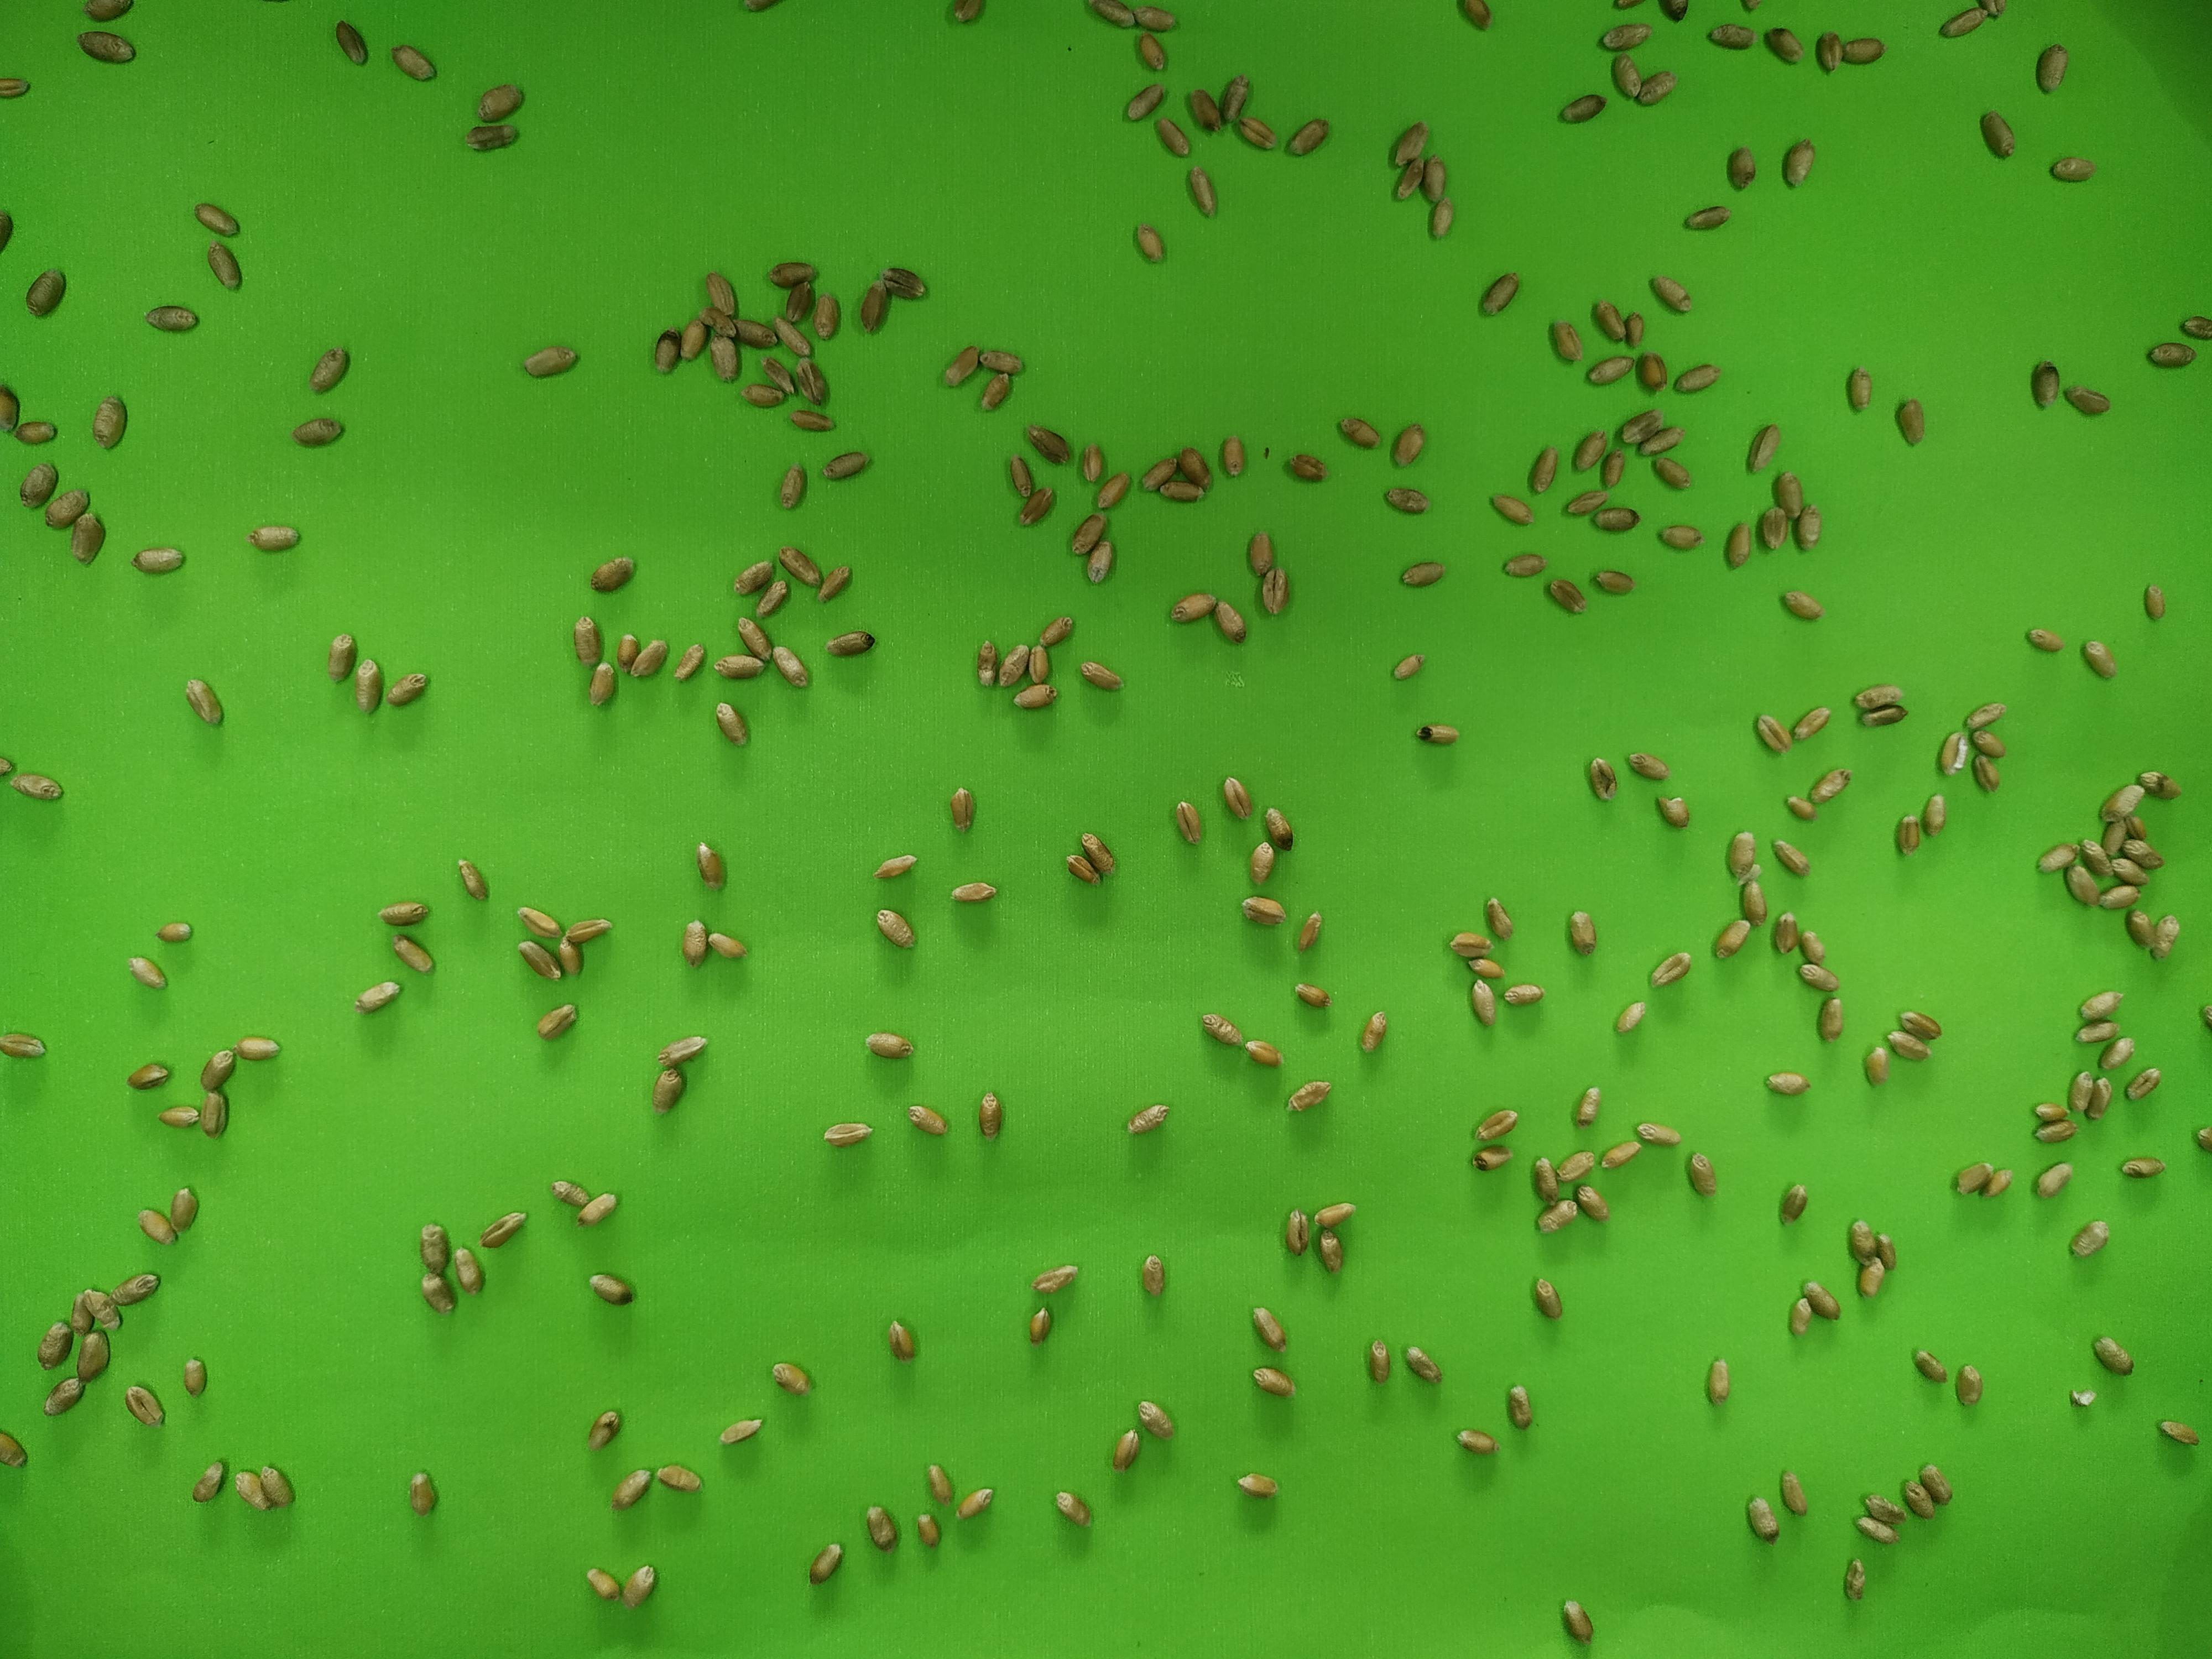bueno: (463, 120, 524, 157), (650, 1033, 709, 1070), (472, 82, 528, 120), (24, 267, 66, 317), (312, 343, 352, 396), (78, 1323, 111, 1385), (1724, 824, 1763, 878), (1163, 587, 1217, 626), (1712, 917, 1756, 964), (773, 540, 820, 584), (1092, 465, 1136, 512), (289, 416, 345, 453), (1797, 1279, 1846, 1321), (1209, 598, 1251, 647), (791, 357, 833, 406), (19, 460, 59, 511), (80, 28, 138, 63), (207, 237, 242, 295), (2027, 354, 2062, 411), (1449, 1422, 1501, 1460), (1332, 413, 1385, 451), (1423, 190, 1460, 244), (1247, 1363, 1301, 1399), (1564, 904, 1601, 958), (1132, 1398, 1177, 1441), (709, 702, 754, 746), (329, 19, 373, 64), (181, 676, 223, 723), (1237, 889, 1284, 931), (533, 999, 580, 1040), (1933, 7, 1993, 40), (451, 1249, 491, 1298), (977, 366, 1017, 415), (920, 1459, 960, 1507), (68, 509, 108, 558), (1216, 772, 1256, 821), (1075, 657, 1123, 697), (1183, 85, 1223, 134), (1780, 132, 1815, 188), (1465, 974, 1500, 1030), (2041, 152, 2097, 186), (1792, 958, 1843, 997), (1010, 678, 1061, 716), (1024, 425, 1076, 462), (324, 626, 355, 687), (1129, 214, 1165, 267), (585, 657, 622, 709), (1216, 425, 1249, 483), (2076, 636, 2120, 680), (1545, 573, 1588, 617), (1287, 113, 1331, 157), (1571, 1182, 1615, 1225), (415, 1272, 460, 1314), (608, 1469, 653, 1511), (941, 345, 986, 387), (1569, 429, 1611, 474), (1533, 1195, 1578, 1237), (620, 1561, 660, 1608), (2060, 1068, 2101, 1115), (589, 552, 636, 592), (871, 908, 918, 948), (45, 1371, 85, 1419), (855, 282, 890, 336), (1813, 992, 1848, 1046), (1242, 528, 1277, 582), (1249, 1305, 1287, 1354), (650, 1063, 688, 1112), (766, 1359, 815, 1398), (481, 1211, 531, 1248), (1446, 925, 1496, 962), (1916, 789, 1952, 840), (193, 200, 244, 237), (1893, 390, 1926, 446), (1278, 1204, 1312, 1260), (1898, 1478, 1940, 1521), (1754, 504, 1796, 547), (1085, 532, 1120, 584), (2069, 1216, 2113, 1258), (1172, 795, 1207, 847), (1777, 587, 1829, 622), (1791, 701, 1834, 742), (1280, 450, 1332, 484), (770, 319, 815, 359), (387, 667, 432, 708), (815, 559, 855, 605), (1750, 714, 1796, 755), (1810, 28, 1848, 75), (1968, 749, 2006, 796), (946, 779, 977, 836), (571, 610, 603, 667), (1197, 1011, 1244, 1049), (1388, 420, 1426, 467), (129, 544, 183, 577), (775, 458, 808, 512), (38, 1317, 71, 1371), (2121, 903, 2155, 957), (772, 641, 808, 690), (1216, 71, 1252, 120), (1775, 1180, 1811, 1229), (1261, 805, 1298, 854), (780, 277, 817, 326), (1977, 110, 2013, 159), (1258, 570, 1294, 619), (1742, 1492, 1777, 1542), (1547, 315, 1581, 366), (1935, 730, 1970, 781), (1635, 345, 1670, 396), (1761, 1066, 1811, 1101), (373, 897, 432, 927), (2060, 864, 2102, 906), (1402, 1344, 1444, 1385), (1857, 1044, 1897, 1087), (580, 1565, 624, 1605), (1649, 272, 1693, 312), (2099, 777, 2142, 817), (82, 1284, 122, 1328), (1136, 453, 1181, 491), (125, 1385, 164, 1431), (583, 1406, 622, 1452), (1235, 113, 1280, 152), (1123, 82, 1169, 120), (904, 1100, 949, 1138), (524, 343, 577, 376), (1630, 1119, 1683, 1152), (199, 1086, 232, 1138), (1317, 1223, 1350, 1276), (1418, 152, 1451, 204), (765, 256, 817, 289), (653, 1460, 705, 1493), (2144, 338, 2196, 371), (2144, 915, 2181, 962), (1285, 1077, 1332, 1114), (1529, 1276, 1566, 1323), (199, 1047, 235, 1094), (1392, 155, 1428, 202), (1130, 0, 1177, 37), (390, 44, 437, 80), (651, 321, 681, 378), (1853, 1514, 1902, 1549), (702, 268, 737, 317), (40, 490, 89, 525), (1892, 810, 1926, 859), (1724, 143, 1759, 192), (1357, 1009, 1392, 1058), (2099, 814, 2134, 863), (732, 380, 786, 411), (1237, 1039, 1291, 1070), (1792, 502, 1824, 556), (1703, 21, 1757, 52), (517, 939, 559, 979), (1653, 789, 1695, 830), (1479, 274, 1521, 314), (1413, 718, 1463, 751), (514, 906, 564, 939), (1771, 465, 1804, 516), (1076, 439, 1109, 490), (1951, 1361, 1984, 1412), (883, 1314, 916, 1364), (1379, 484, 1430, 518), (1397, 556, 1447, 589), (1109, 1424, 1143, 1474), (1972, 1162, 2015, 1201), (1076, 833, 1120, 871), (134, 1208, 178, 1246), (2092, 1335, 2135, 1373), (2155, 1415, 2200, 1452), (1851, 1253, 1888, 1298), (1808, 765, 1853, 802), (1134, 30, 1170, 75), (124, 953, 169, 990), (1599, 1136, 1644, 1173), (1019, 483, 1055, 528), (1587, 751, 1616, 807), (728, 619, 775, 653), (1892, 1009, 1944, 1040), (354, 978, 401, 1012), (92, 396, 127, 443), (2033, 42, 2067, 89), (678, 917, 712, 964), (2081, 1072, 2113, 1124), (145, 301, 197, 333), (2118, 1150, 2170, 1182), (1569, 1084, 1604, 1131), (1723, 521, 1754, 573), (1965, 725, 2012, 760), (1527, 444, 1559, 497), (193, 1457, 228, 1504), (1123, 1101, 1170, 1136), (2064, 382, 2111, 416), (820, 450, 873, 481), (1841, 31, 1888, 66), (676, 638, 709, 687), (1183, 169, 1216, 218), (2019, 622, 2067, 655), (1486, 491, 1534, 525), (1233, 1469, 1282, 1502), (406, 1469, 439, 1518), (1562, 484, 1611, 518), (1592, 296, 1625, 345), (388, 938, 437, 971), (1031, 1262, 1080, 1295), (1782, 1295, 1815, 1344), (590, 1267, 631, 1307), (256, 1467, 296, 1507), (1061, 847, 1101, 887), (1080, 0, 1137, 28), (1651, 948, 1693, 986), (2125, 1063, 2163, 1105), (150, 1103, 204, 1133), (246, 523, 300, 552), (1703, 1354, 1733, 1408), (1366, 1335, 1395, 1389), (2120, 833, 2163, 870), (1169, 444, 1212, 481), (808, 1542, 845, 1586), (1651, 455, 1695, 491), (1615, 410, 1658, 446), (1289, 976, 1332, 1012), (1153, 118, 1197, 155), (2033, 842, 2083, 873), (822, 627, 873, 659), (1244, 838, 1275, 889), (864, 1030, 914, 1061), (1686, 1148, 1717, 1199), (1005, 451, 1036, 502), (732, 317, 782, 349), (1590, 502, 1641, 533), (1952, 1162, 1998, 1197), (1745, 427, 1780, 472), (1616, 307, 1651, 352), (455, 857, 489, 903), (0, 1028, 45, 1063), (2092, 1039, 2137, 1073), (730, 559, 775, 594), (1839, 1554, 1872, 1601), (554, 934, 587, 981), (864, 1506, 897, 1553), (1885, 1032, 1932, 1065), (693, 845, 726, 892), (2073, 1012, 2120, 1046), (571, 1192, 618, 1225), (704, 929, 751, 962), (1561, 1598, 1594, 1645), (12, 415, 59, 448), (881, 267, 928, 300), (1554, 1147, 1601, 1180), (1022, 1303, 1055, 1351), (125, 1058, 172, 1091), (5, 772, 57, 802), (944, 878, 996, 908), (1738, 875, 1768, 927), (705, 336, 744, 376), (1069, 514, 1111, 551), (756, 579, 792, 620), (977, 345, 1026, 376), (178, 1351, 209, 1399), (716, 1415, 765, 1446), (1054, 1492, 1096, 1528), (232, 1033, 280, 1065), (954, 1485, 996, 1521), (1770, 838, 1811, 875), (1763, 26, 1804, 63), (2076, 835, 2113, 877), (1637, 423, 1681, 458), (1844, 361, 1872, 415), (996, 641, 1029, 687), (1022, 641, 1055, 687), (1625, 749, 1670, 782), (420, 1223, 449, 1274), (354, 659, 383, 709), (871, 852, 921, 882), (1846, 1213, 1876, 1263), (1467, 1141, 1517, 1171), (547, 1178, 594, 1209), (2137, 769, 2184, 800), (111, 1272, 158, 1303), (1292, 908, 1324, 955), (1484, 894, 1515, 941), (1672, 362, 1719, 394), (1472, 1108, 1519, 1140), (1392, 124, 1430, 162), (2033, 1161, 2071, 1199), (233, 1469, 270, 1509), (2172, 308, 2212, 345), (711, 652, 763, 680), (1507, 1382, 1534, 1434), (972, 638, 1000, 690), (1594, 563, 1635, 598), (1531, 1150, 1557, 1206), (1855, 680, 1904, 709), (1656, 521, 1705, 551), (1557, 94, 1606, 124), (810, 293, 840, 342), (625, 641, 669, 674), (167, 1185, 200, 1229), (1609, 56, 1642, 99), (1601, 21, 1646, 52), (974, 1094, 1005, 1140), (611, 629, 643, 674), (1773, 906, 1801, 957), (1914, 1462, 1952, 1499), (1390, 648, 1426, 687), (1909, 1347, 1947, 1384), (2076, 990, 2123, 1019), (786, 406, 833, 436), (1501, 549, 1548, 579), (1613, 997, 1646, 1039), (1780, 791, 1822, 824), (1683, 204, 1735, 230), (1139, 1248, 1165, 1300), (1460, 953, 1508, 981), (1308, 1201, 1357, 1229), (2033, 1115, 2078, 1145), (1583, 356, 1629, 385), (676, 317, 711, 356), (1637, 70, 1676, 105), (819, 1121, 869, 1147), (1860, 1492, 1902, 1523), (2137, 582, 2168, 624), (1035, 617, 1076, 648), (2106, 857, 2153, 885), (944, 0, 988, 30), (564, 917, 613, 943), (1599, 443, 1625, 491), (1775, 1469, 1808, 1507), (0, 1427, 28, 1473), (1158, 476, 1204, 504), (1498, 981, 1543, 1009), (1961, 701, 2006, 728), (2099, 882, 2144, 910), (913, 1509, 944, 1549), (1858, 701, 1900, 730), (73, 0, 131, 21), (1456, 0, 1496, 30), (0, 385, 24, 432), (153, 915, 192, 945), (1871, 1227, 1898, 1267), (2031, 1098, 2071, 1124)
partido: (2071, 1391, 2111, 1417)
